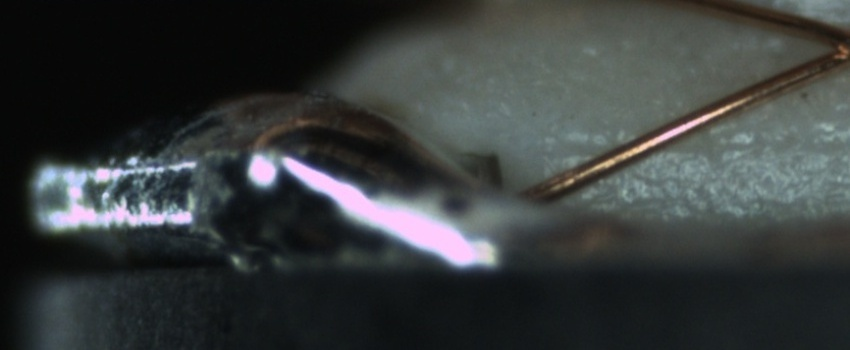CL: (805, 14, 850, 77)
DL: (544, 115, 849, 176)
